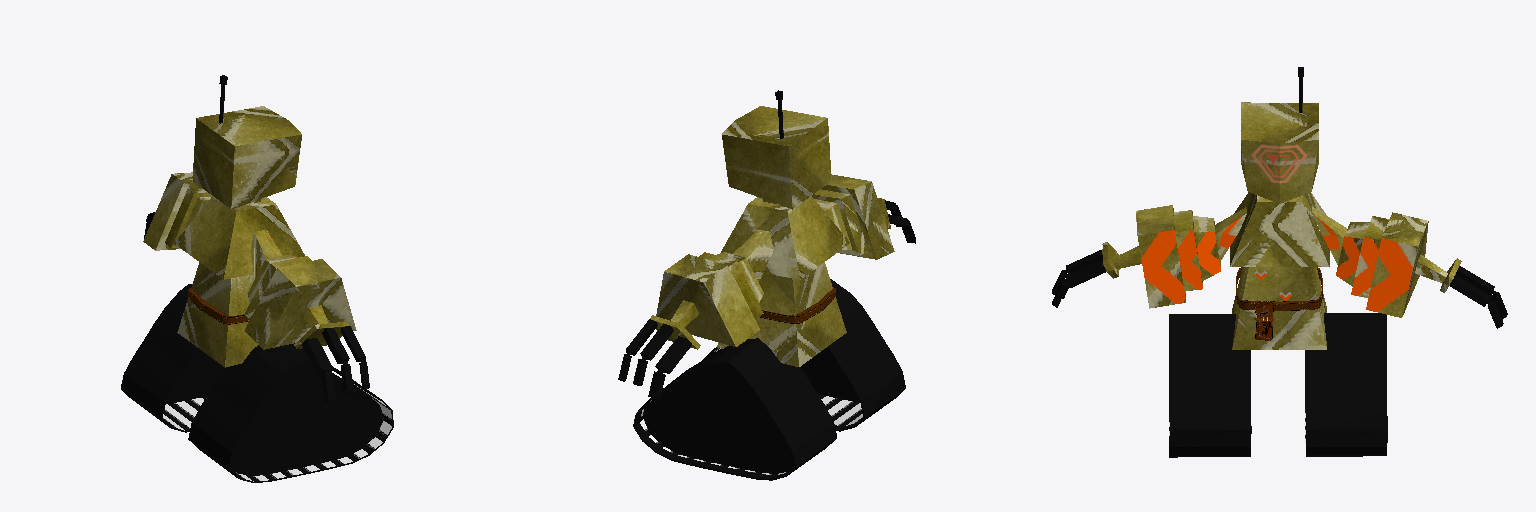
3 views of the same model, side by side, from view 1: azimuth 30°, elevation 25°; view 2: azimuth 150°, elevation 25°; view 3: azimuth 270°, elevation 25° (orthographic).
Parts seen in each view (by area): view 1: Plane.004; view 2: Plane.004; view 3: Plane.004.
Part boxes in pixels (x1,y1,x2,y2): Plane.004: (121, 75, 393, 482); Plane.004: (618, 90, 915, 480); Plane.004: (1052, 67, 1507, 457).
Size of the model in its own units: 4.2 by 8.6 by 10.03.
3 materials, 2 textured.